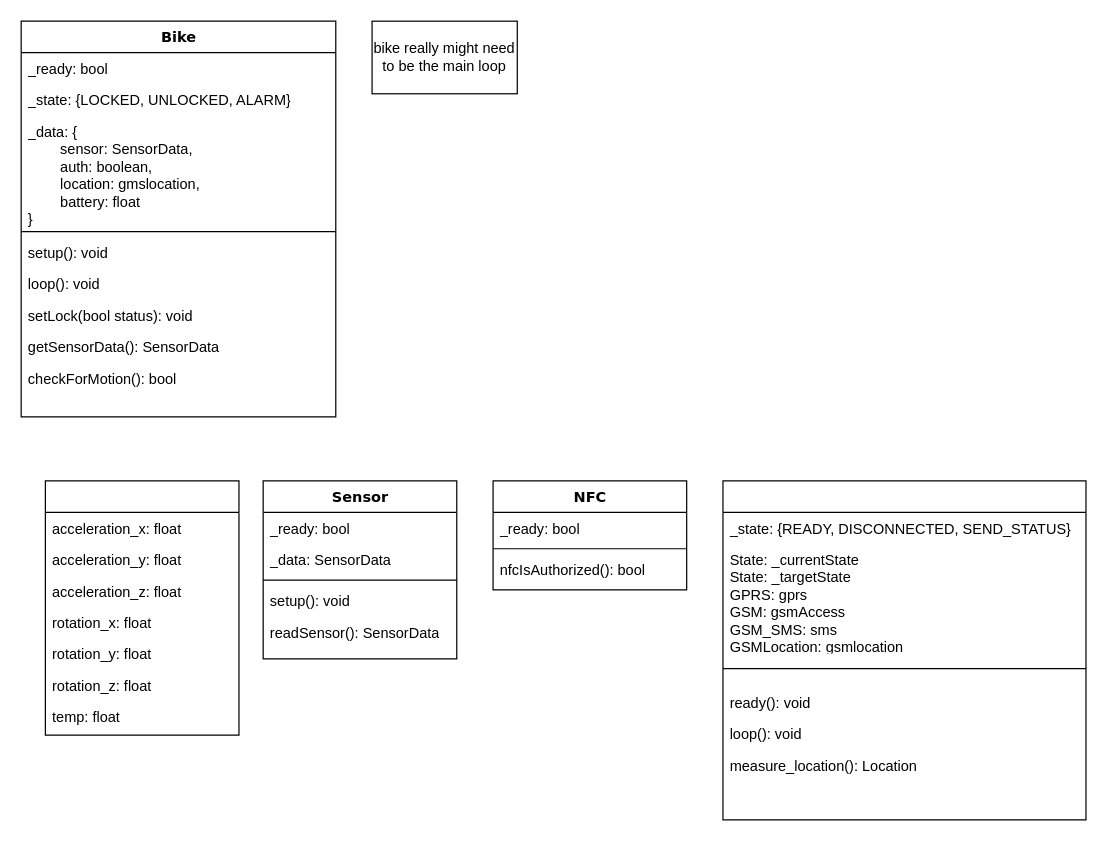
This 1107x841 diagram has some shape labels left out. The box of each missing label's shape, as (x1, y1, x2, y2) in pixels:
GSMInterface: (722, 480, 1086, 820)
Struct: SensorData: (44, 480, 239, 735)
